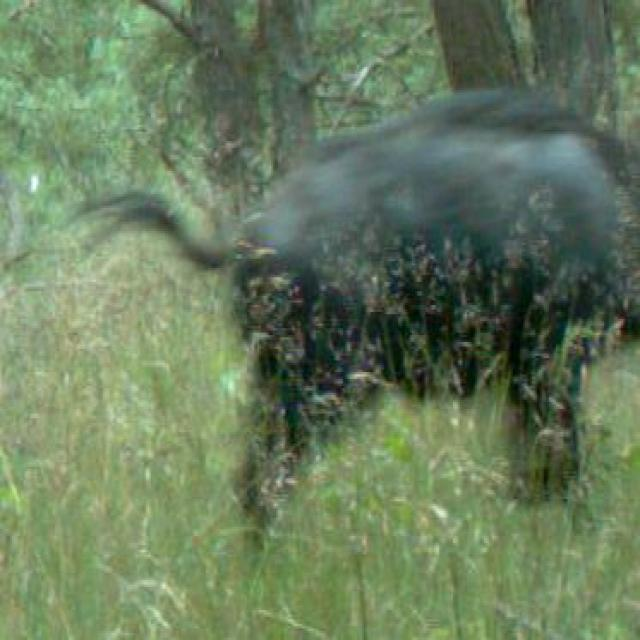pig: (169, 86, 640, 498)
